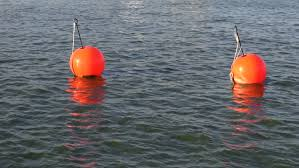buoy: (232, 53, 267, 86), (71, 47, 104, 78)
